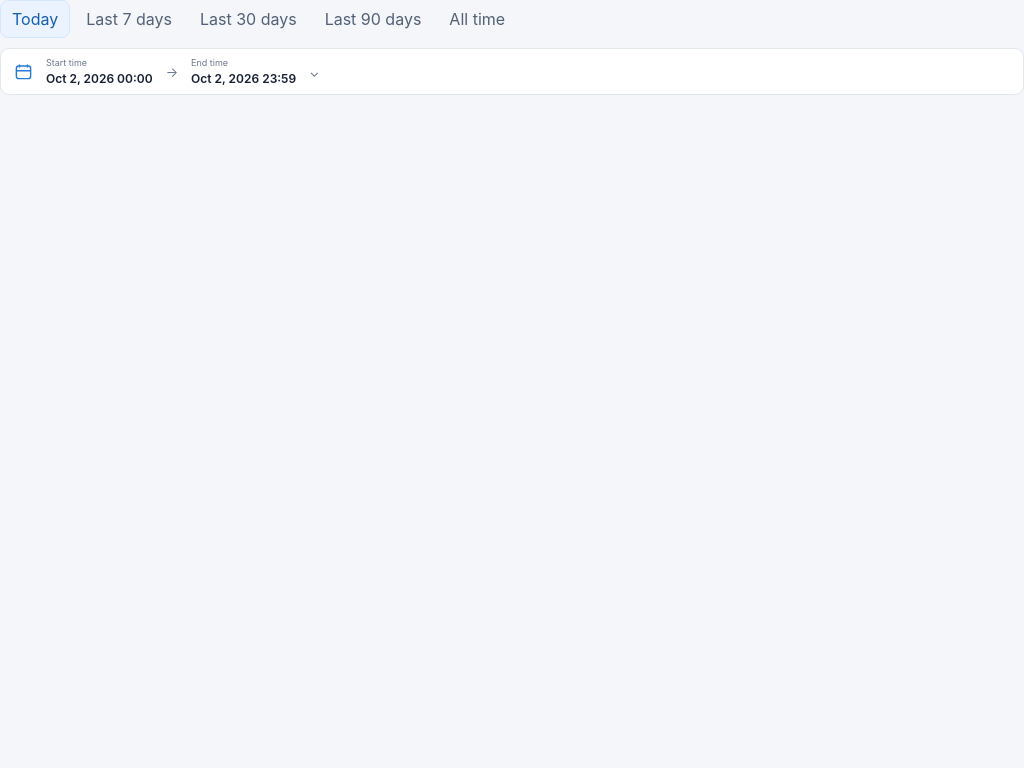
Test: date controls › moves keyboard focus between months and clamps forward navigation to today
The image size is (1024, 768).
Click the button with aria-label "Select date range,". click: point(67, 62)
box: x1=0 y1=48 x2=1023 y2=95
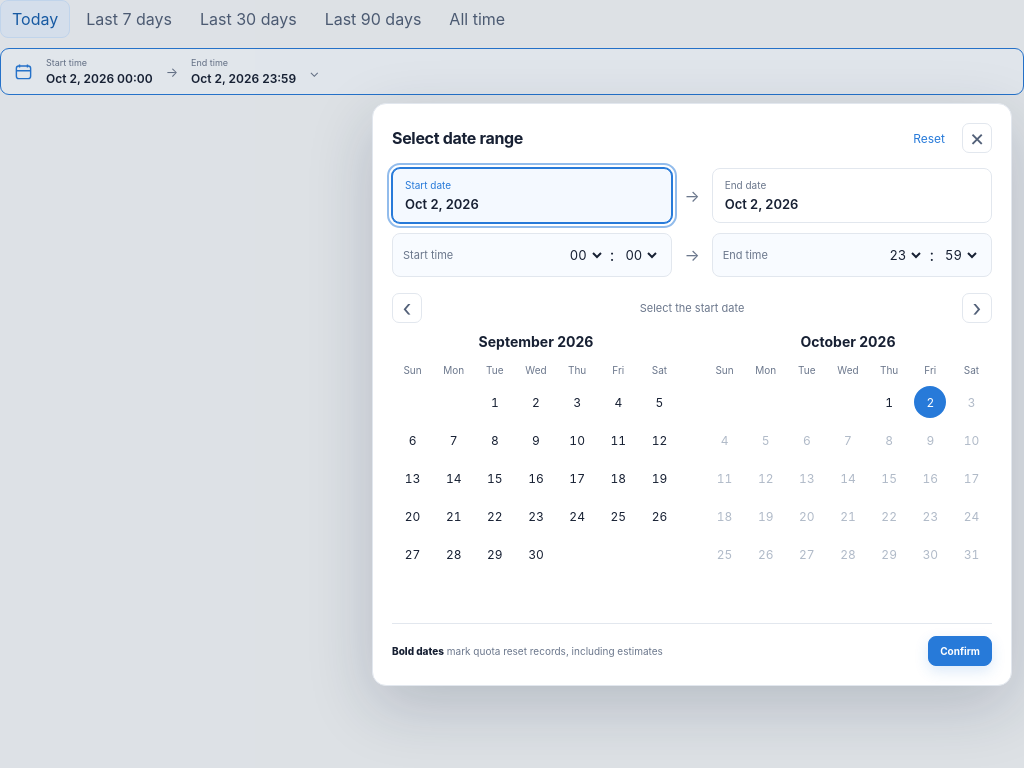
Press ArrowRight in the button "1" below "October 2026", box x1=873 y1=386 x2=905 y2=418
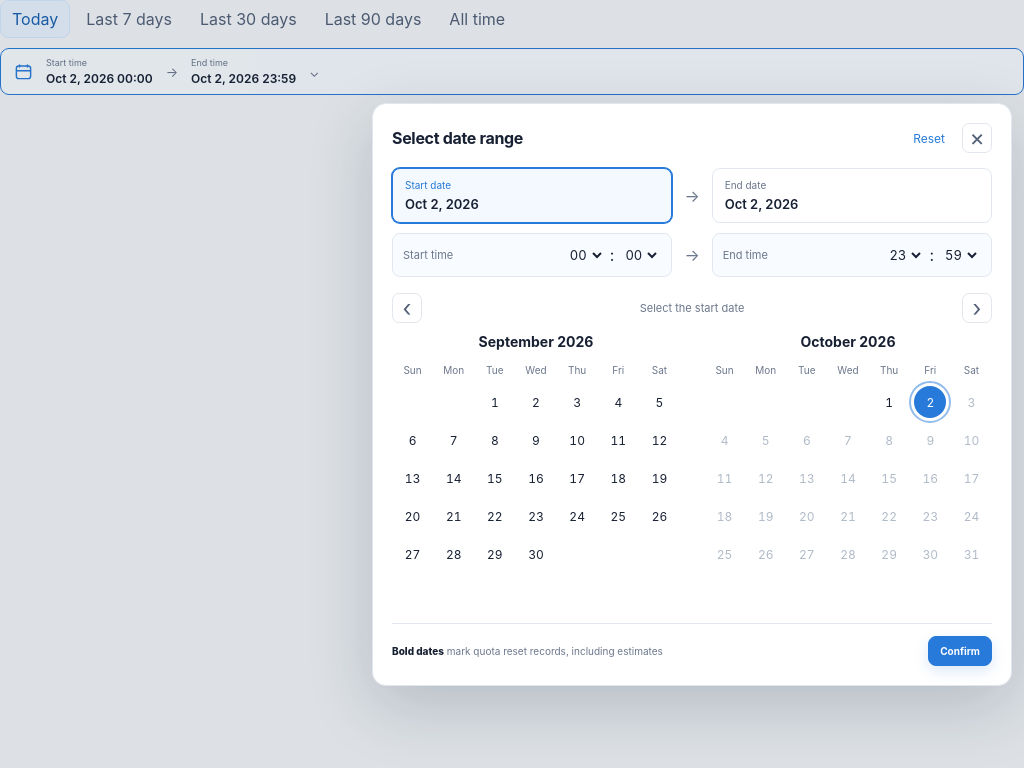
Press ArrowRight in the button "2" below "October 2026", box x1=914 y1=386 x2=946 y2=418
Press Home in the button "2" below "October 2026", box x1=914 y1=386 x2=946 y2=418
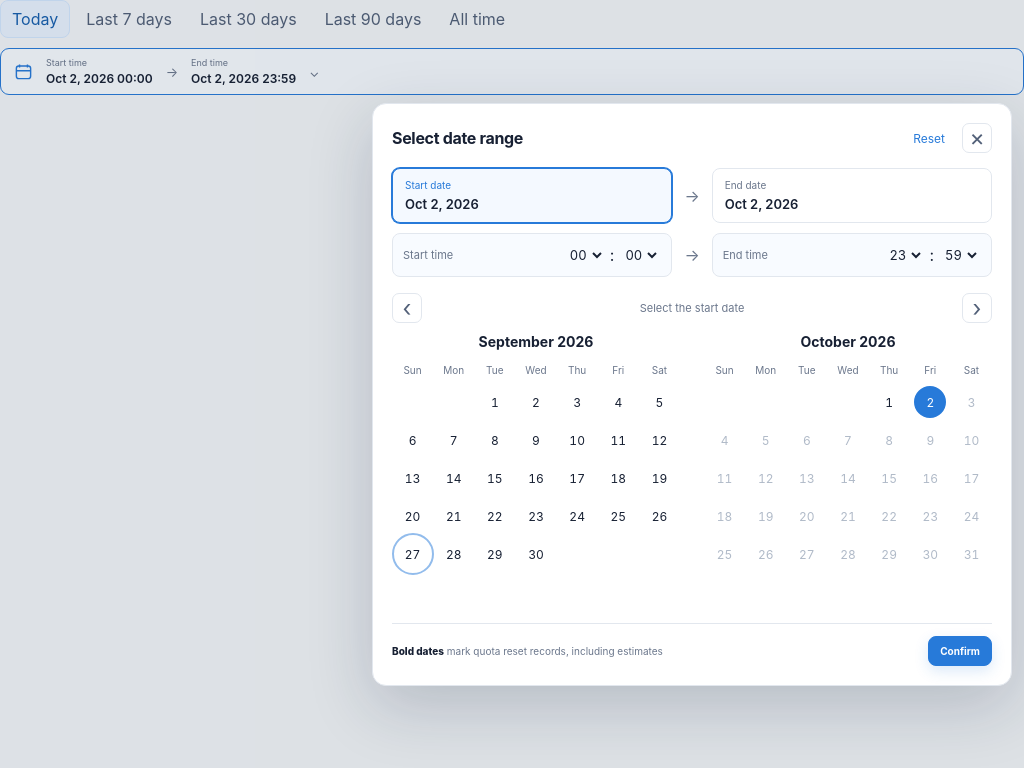
Press PageUp in the button "27" below "September 2026", box x1=397 y1=538 x2=429 y2=570
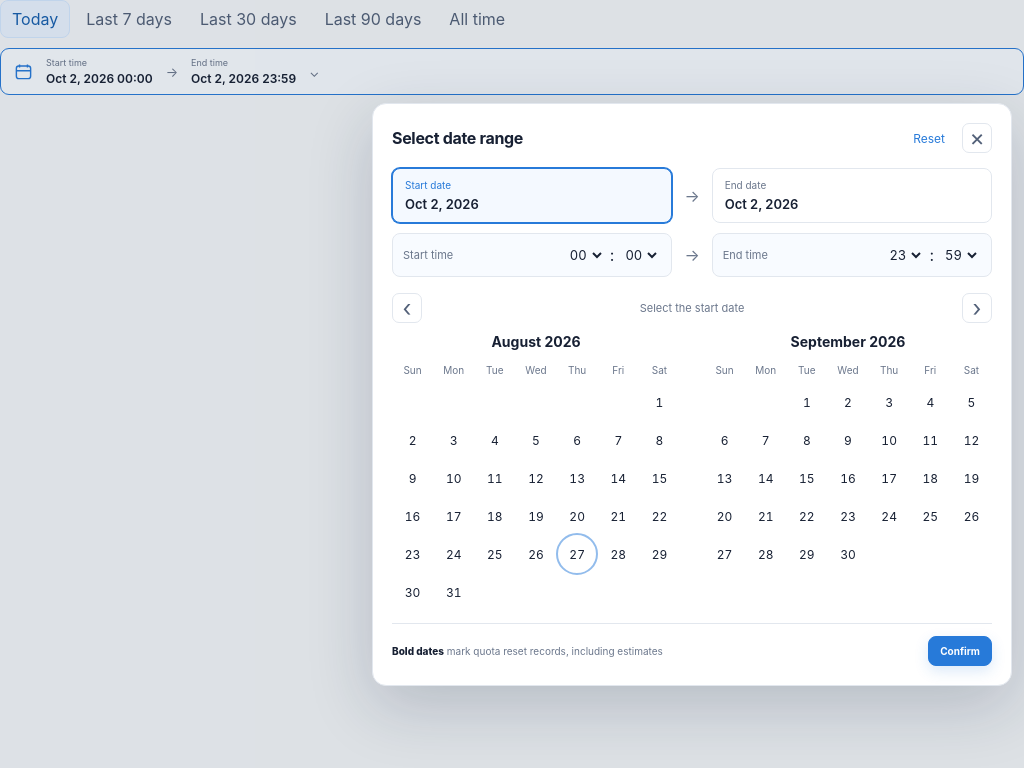
Expected: the heading with id "calendarMonth0" reads "August 2026", x1=491 y1=333 x2=581 y2=350
